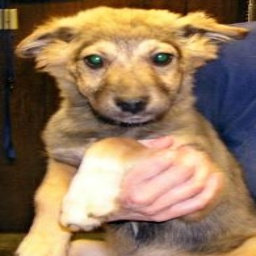dog: (12, 8, 256, 246)
